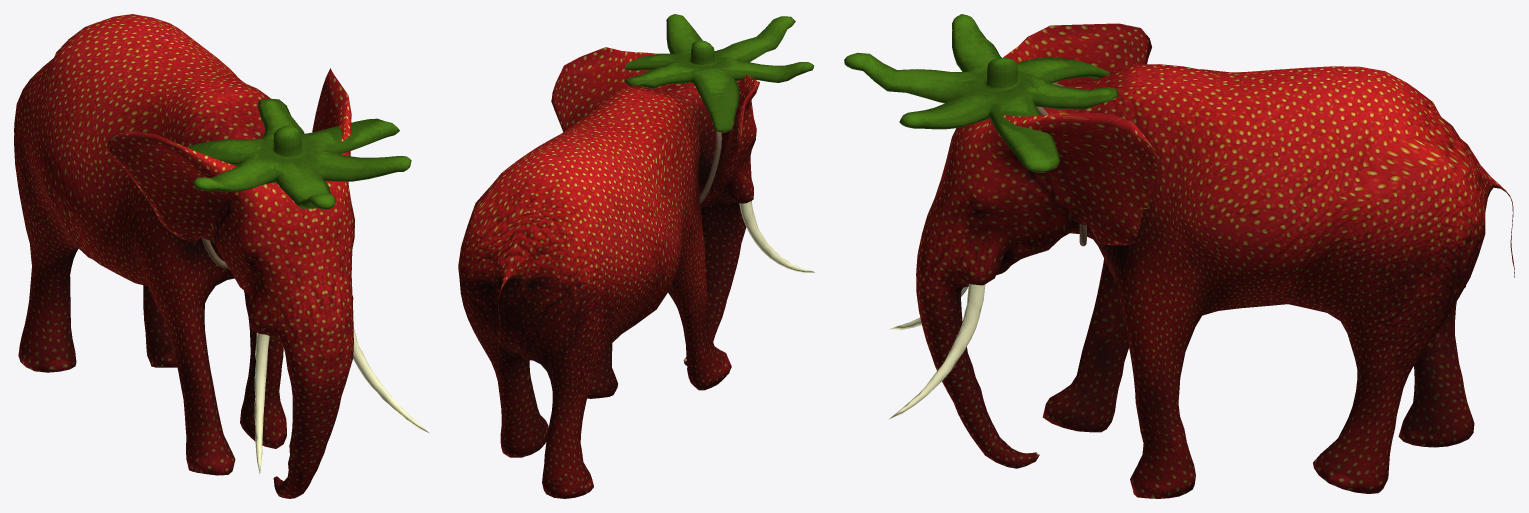
The model's file is the_strawberry_elephant.glb.
3 views of the same model, side by side, from view 1: azimuth 30°, elevation 25°; view 2: azimuth 150°, elevation 25°; view 3: azimuth 270°, elevation 25° (orthographic). The views are drawn at different scales.
Visible parts, largest first — view 1: Elephant; view 2: Elephant; view 3: Elephant.
Boxes of the visible parts, left/top/right/bottom form: Elephant: left=14, top=14, right=428, bottom=498; Elephant: left=458, top=14, right=814, bottom=498; Elephant: left=844, top=14, right=1514, bottom=498.
Size of the model in its own units: 54.88 by 83.02 by 123.
Materials: 1 (1 with a texture image).
